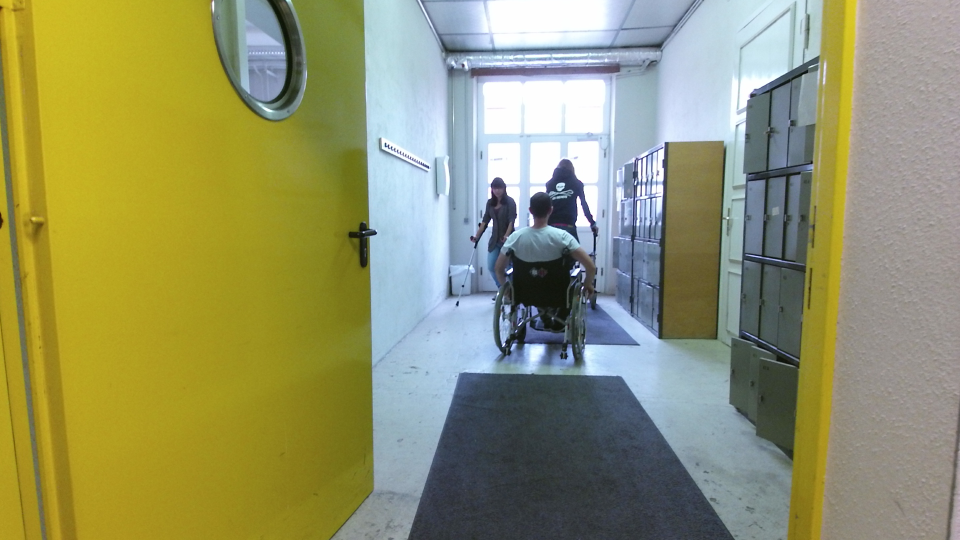crutches: (452, 180, 520, 317)
wheelchair: (486, 195, 591, 376)
